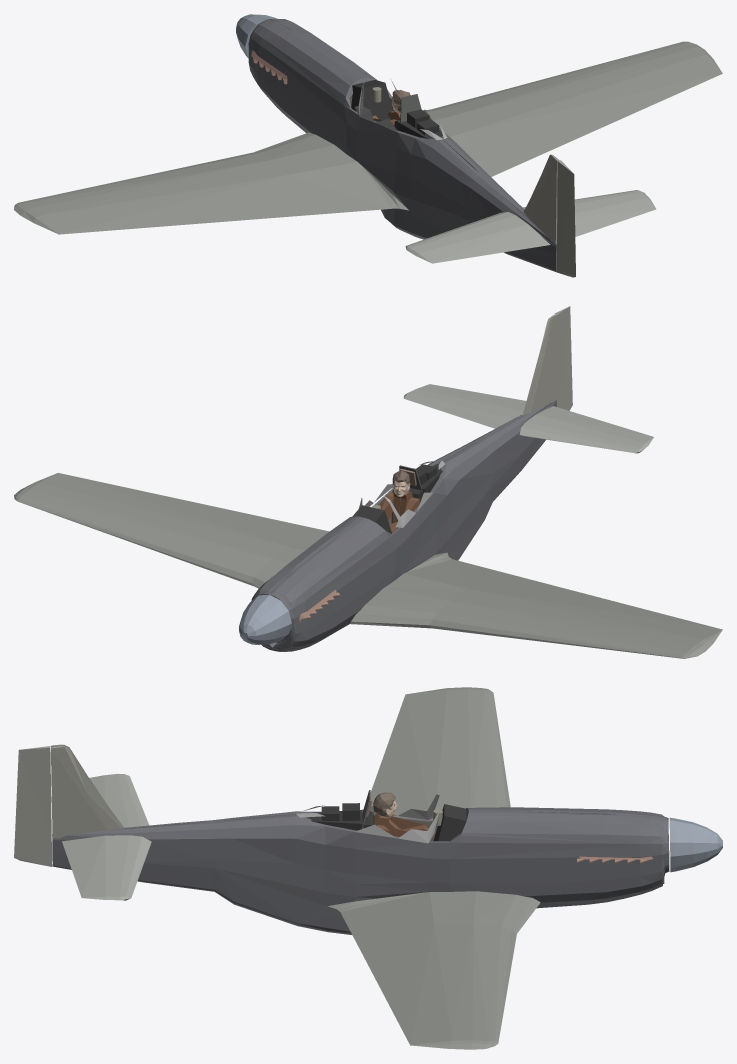
The picture shows the model from 3 angles, top to bottom: view 1: azimuth 30°, elevation 25°; view 2: azimuth 150°, elevation 25°; view 3: azimuth 270°, elevation 25°; orthographic projection. The views are drawn at different scales.
Visible parts, largest first — view 1: body; view 2: body; view 3: body.
Part boxes in pixels (box(x1,y1,x2,y2)): body: box(14, 14, 722, 277); body: box(14, 306, 722, 658); body: box(14, 687, 722, 1049).
Bounding box in the file's own units: 11.61 × 2.78 × 9.71.
